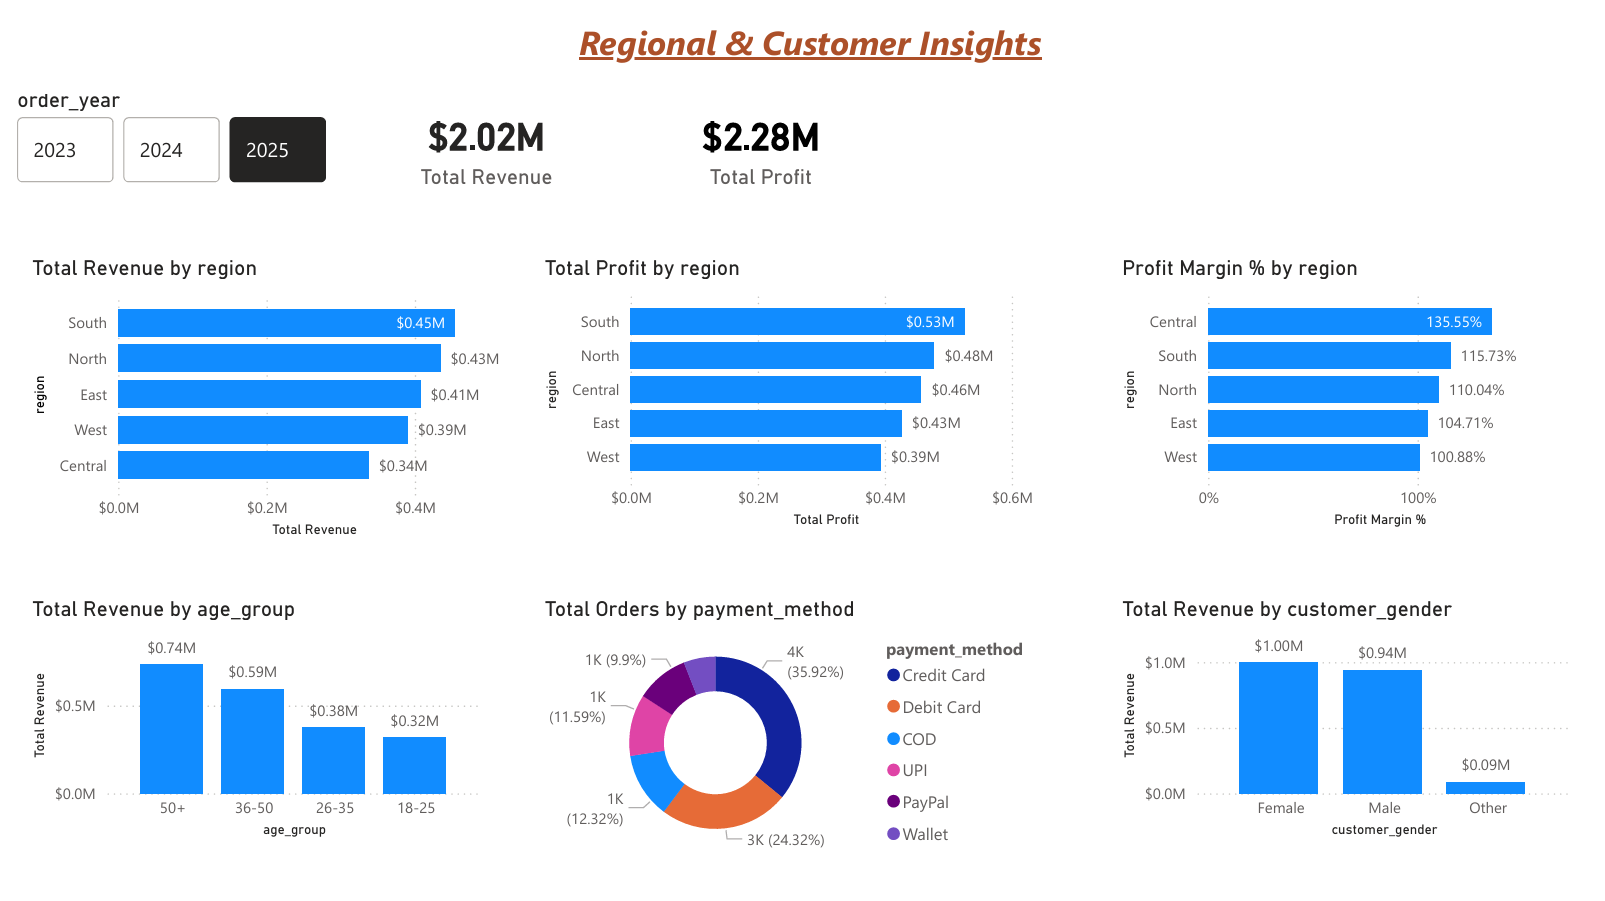

What the dashboard file says about the page in this screenshot:
{"tool":"powerbi","page":{"name":"Regional & Customer Insights","canvas":[1280,720],"ordinal":1},"visuals":[{"type":"advancedSlicerVisual","fields":{"Values":["orders.order_year"]},"box":[0,68.6,258.1,82.6],"z":0},{"type":"card","fields":{"Values":["orders.Total Revenue"]},"box":[287.2,74.4,187.2,83.7],"z":1000},{"type":"card","fields":{"Values":["orders.Total Profit"]},"box":[507,68.6,186,95.3],"z":2000},{"type":"clusteredBarChart","fields":{"Category":["orders.region"],"Y":["orders.Total Revenue"]},"box":[11.6,203.5,410.5,230.2],"z":3000},{"type":"clusteredBarChart","fields":{"Y":["orders.Total Profit"],"Category":["orders.region"]},"box":[422.1,203.5,409.3,222.1],"z":4000},{"type":"clusteredBarChart","fields":{"Y":["orders.Profit Margin %"],"Category":["orders.region"]},"box":[883.7,203.5,369.8,222.1],"z":5000},{"type":"clusteredColumnChart","fields":{"Category":["orders.age_group"],"Y":["orders.Total Revenue"]},"box":[11.6,475.6,369.8,198.8],"z":6000},{"type":"donutChart","fields":{"Category":["orders.payment_method"],"Y":["orders.Total Orders"]},"box":[422.1,475.6,409.3,216.3],"z":7000},{"type":"textbox","box":[884,476,370,216],"z":8000},{"type":"columnChart","fields":{"Category":["orders.customer_gender"],"Y":["orders.Total Revenue"]},"box":[883.7,475.6,369.8,198.8],"z":9000},{"type":"textbox","box":[11.6,9.3,1255.8,65.1],"z":10000}]}

Visuals, with their boxes in screenshot pixels (x1, y1, x2, y2), scaled from the page's 1280x720 canvas onto the 1605x901 screenshot:
advancedSlicerVisual - orders.order_year: BBox(0, 86, 324, 189)
card - orders.Total Revenue: BBox(360, 93, 595, 198)
card - orders.Total Profit: BBox(636, 86, 869, 205)
clusteredBarChart - orders.region x orders.Total Revenue: BBox(15, 255, 529, 543)
clusteredBarChart - orders.Total Profit x orders.region: BBox(529, 255, 1042, 533)
clusteredBarChart - orders.Profit Margin % x orders.region: BBox(1108, 255, 1572, 533)
clusteredColumnChart - orders.age_group x orders.Total Revenue: BBox(15, 595, 478, 844)
donutChart - orders.payment_method x orders.Total Orders: BBox(529, 595, 1042, 866)
textbox: BBox(1108, 596, 1572, 866)
columnChart - orders.customer_gender x orders.Total Revenue: BBox(1108, 595, 1572, 844)
textbox: BBox(15, 12, 1589, 93)
